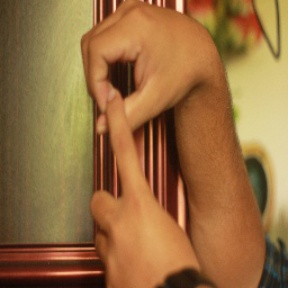Q: (79, 2, 212, 256)
